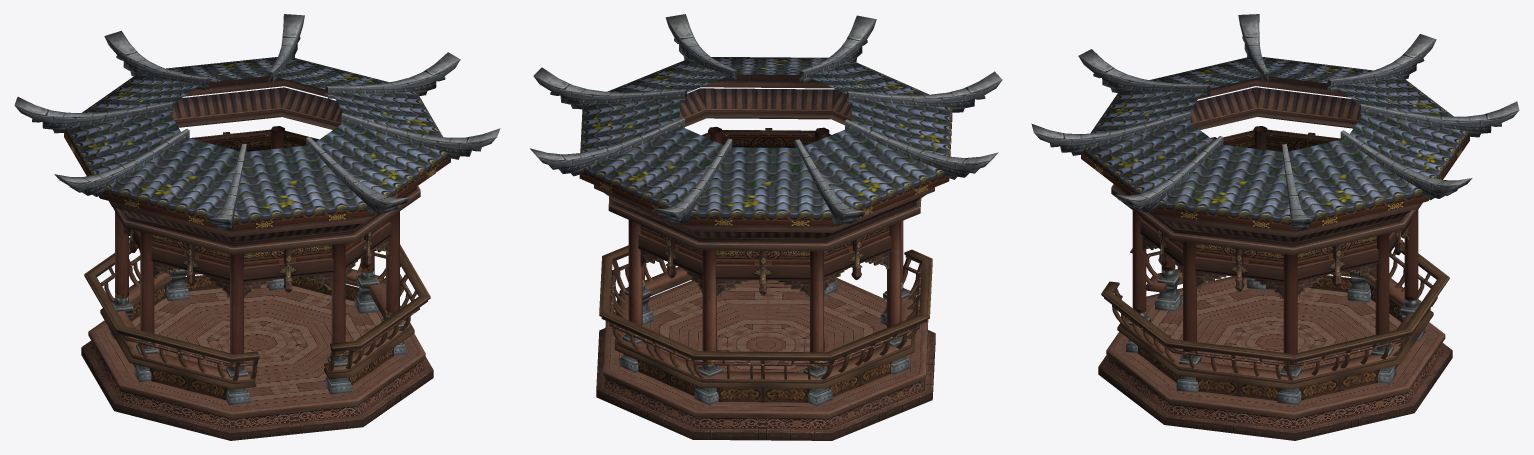
The model's file is S2_Build_XSC021b.FBX.
3 views of the same model, side by side, from view 1: azimuth 30°, elevation 25°; view 2: azimuth 150°, elevation 25°; view 3: azimuth 270°, elevation 25° (orthographic). The views are drawn at different scales.
Parts seen in each view (by area): view 1: S2_Build_XSC021b; view 2: S2_Build_XSC021b; view 3: S2_Build_XSC021b.
Part boxes in pixels (left/top/right/bottom): S2_Build_XSC021b: left=14, top=14, right=500, bottom=440; S2_Build_XSC021b: left=530, top=14, right=1002, bottom=440; S2_Build_XSC021b: left=1031, top=14, right=1519, bottom=440.
Bounding box in the file's own units: 1270 × 742 × 1273.
